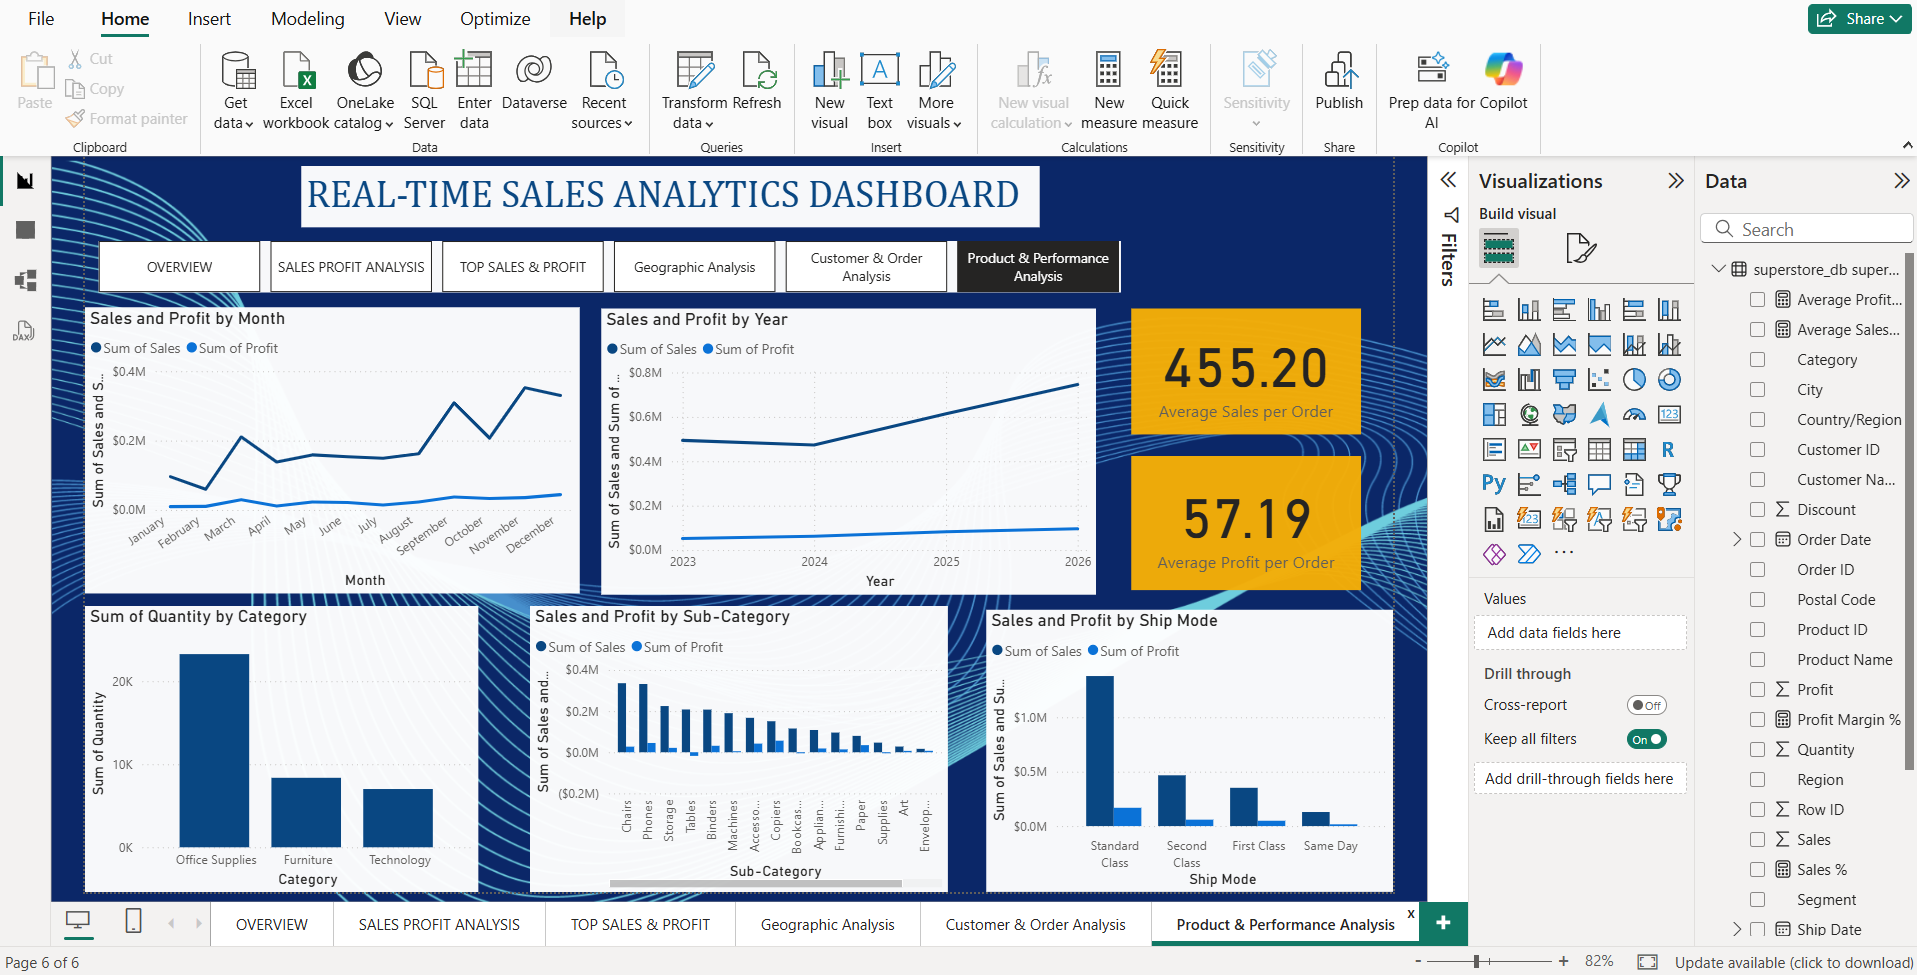

The page's visual inventory and layout, read from the dashboard file:
{"tool":"powerbi","page":{"name":"Product & Performance Analysis","canvas":[1280,720],"ordinal":5},"visuals":[{"type":"lineChart","title":"Sales and Profit by Month","fields":{"Y":["Sum(superstore_db superstore.Sales)","Sum(superstore_db superstore.Profit)"],"Category":["superstore_db superstore.Order Date.Variation.Date Hierarchy.Month"]},"box":[0,148,484.2,280],"z":0},{"type":"lineChart","title":"Sales and Profit by Year","fields":{"Category":["superstore_db superstore.Order Date.Variation.Date Hierarchy.Year"],"Y":["Sum(superstore_db superstore.Sales)","Sum(superstore_db superstore.Profit)"]},"box":[505,149.2,484.2,280],"z":1000},{"type":"clusteredColumnChart","fields":{"Y":["Sum(superstore_db superstore.Quantity)"],"Category":["superstore_db superstore.Category"]},"box":[0,440.2,385.2,280],"z":2000},{"type":"clusteredColumnChart","title":"Sales and Profit by Sub-Category","fields":{"Category":["superstore_db superstore.Sub-Category"],"Y":["Sum(superstore_db superstore.Sales)","Sum(superstore_db superstore.Profit)"]},"box":[435.3,440.2,408.4,280],"z":3000},{"type":"clusteredColumnChart","title":"Sales and Profit by Ship Mode","fields":{"Category":["superstore_db superstore.Ship Mode"],"Y":["Sum(superstore_db superstore.Sales)","Sum(superstore_db superstore.Profit)"]},"box":[881.7,443.9,398.6,276.4],"z":4000},{"type":"card","fields":{"Values":["superstore_db superstore.Average Sales per Order"]},"box":[1023.5,149.2,225,123.5],"z":5000},{"type":"card","fields":{"Values":["superstore_db superstore.Average Profit per Order"]},"box":[1023.5,293.5,225,130.8],"z":6000},{"type":"textbox","box":[211.6,9.8,722.7,59.9],"z":7000},{"type":"pageNavigator","box":[13.5,83.2,1000.3,50.1],"z":7001}]}

Visuals, with their boxes on the page's 1280x720 design canvas (x1, y1, x2, y2). These are canvas units, not pixel positions in the 1917x975 screenshot, which may show the page scaled, cropped or inside an application window:
"Sales and Profit by Month" lineChart: rect(0, 148, 484, 428)
"Sales and Profit by Year" lineChart: rect(505, 149, 989, 429)
clusteredColumnChart - Sum(superstore_db superstore.Quantity) x superstore_db superstore.Category: rect(0, 440, 385, 720)
"Sales and Profit by Sub-Category" clusteredColumnChart: rect(435, 440, 844, 720)
"Sales and Profit by Ship Mode" clusteredColumnChart: rect(882, 444, 1280, 720)
card - superstore_db superstore.Average Sales per Order: rect(1024, 149, 1248, 273)
card - superstore_db superstore.Average Profit per Order: rect(1024, 294, 1248, 424)
textbox: rect(212, 10, 934, 70)
pageNavigator: rect(14, 83, 1014, 133)
